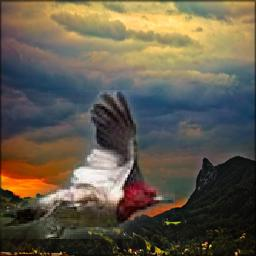Woodpecker: (0, 91, 175, 240)
